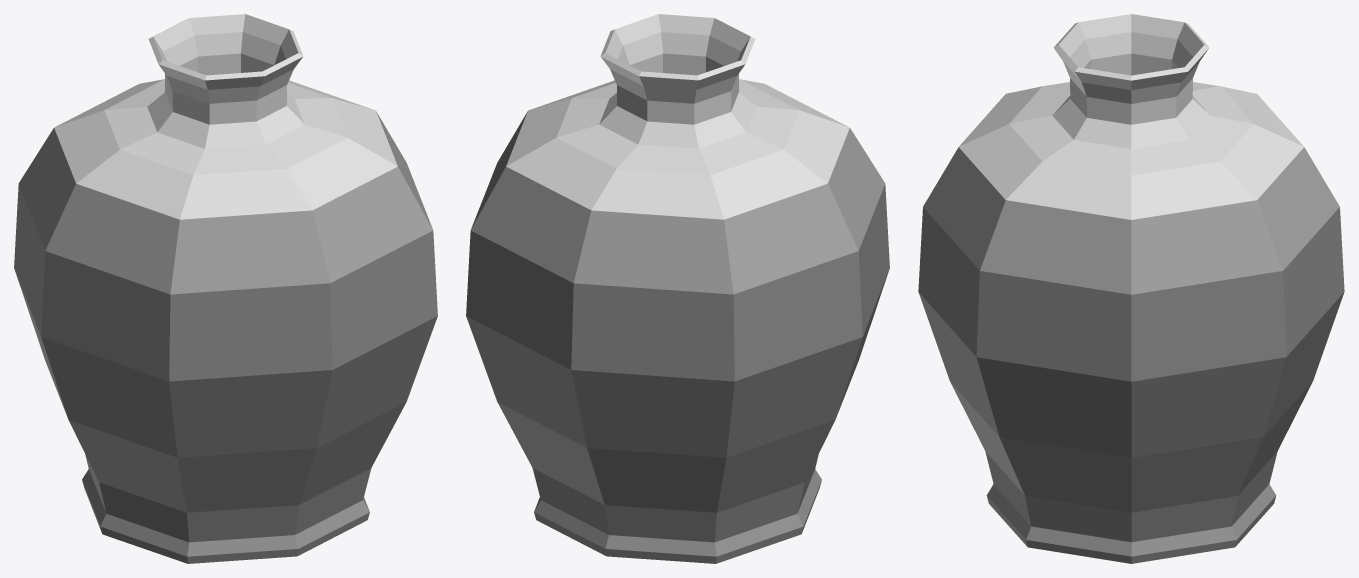
The model's file is VaseModel.fbx.
The picture shows the model from 3 angles, left to right: view 1: azimuth 30°, elevation 25°; view 2: azimuth 150°, elevation 25°; view 3: azimuth 270°, elevation 25°; orthographic projection.
Visible parts, largest first — view 1: VaseModel; view 2: VaseModel; view 3: VaseModel.
Boxes of the visible parts, x1,y1,x2,y2 form: VaseModel: (14,14,437,563); VaseModel: (466,14,889,563); VaseModel: (918,14,1344,563).
Bounding box in the file's own units: 80.68 × 97.62 × 80.68.
